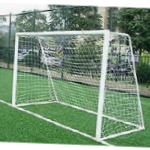goals: (11, 29, 146, 137)
